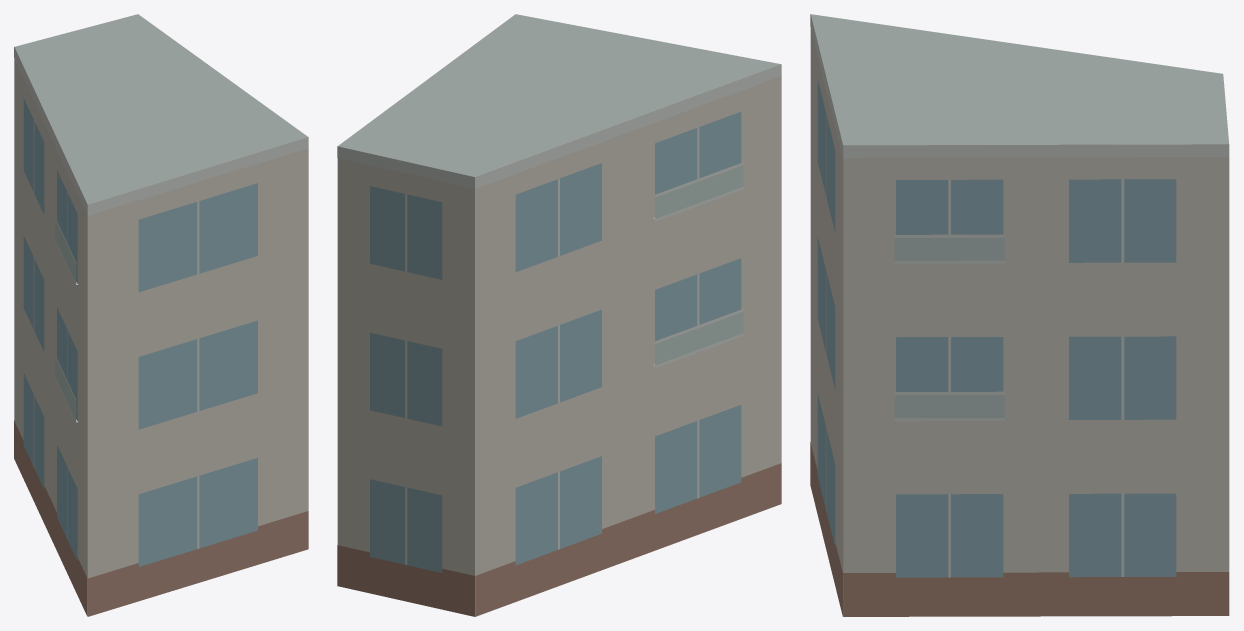
Rendered from survey-upis-32700198.glb.
3 renders of one model, left to right at view 1: azimuth 30°, elevation 25°; view 2: azimuth 150°, elevation 25°; view 3: azimuth 270°, elevation 25°, orthographic. The views are drawn at different scales.
Visible parts, largest first — view 1: survey-upis-32700198.tmp; view 2: survey-upis-32700198.tmp; view 3: survey-upis-32700198.tmp.
Part boxes in pixels (x1,y1,x2,y2): survey-upis-32700198.tmp: [14, 14, 308, 616]; survey-upis-32700198.tmp: [337, 14, 781, 616]; survey-upis-32700198.tmp: [810, 14, 1229, 616].
Bounding box in the file's own units: 5.5 × 9.15 × 7.37.
